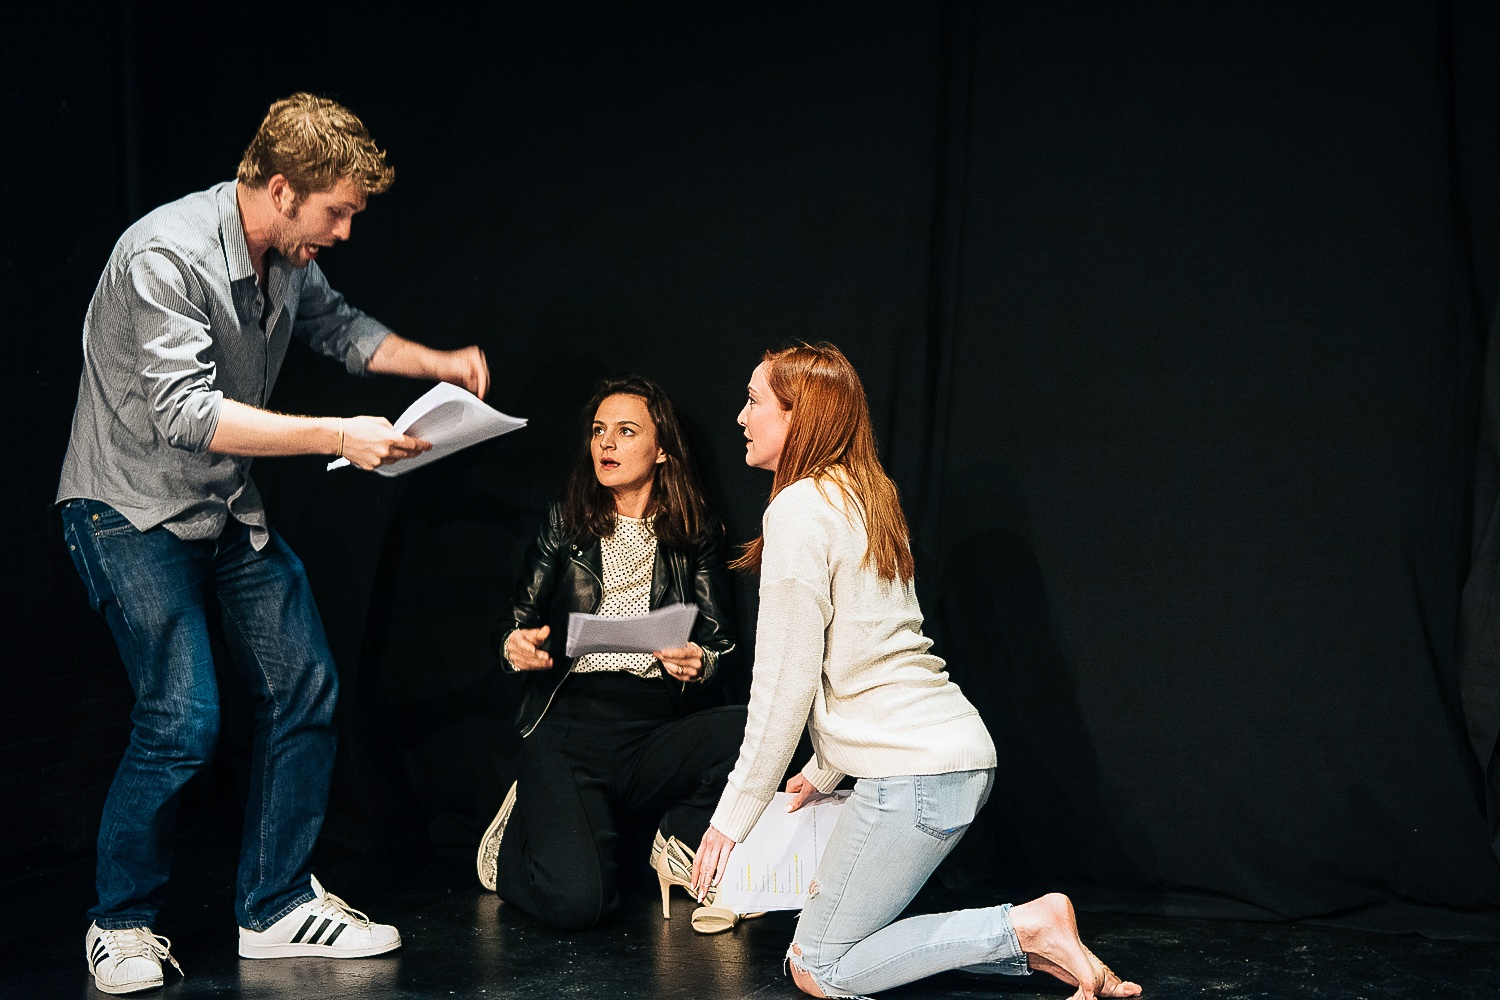bad: (577, 403, 652, 478)
